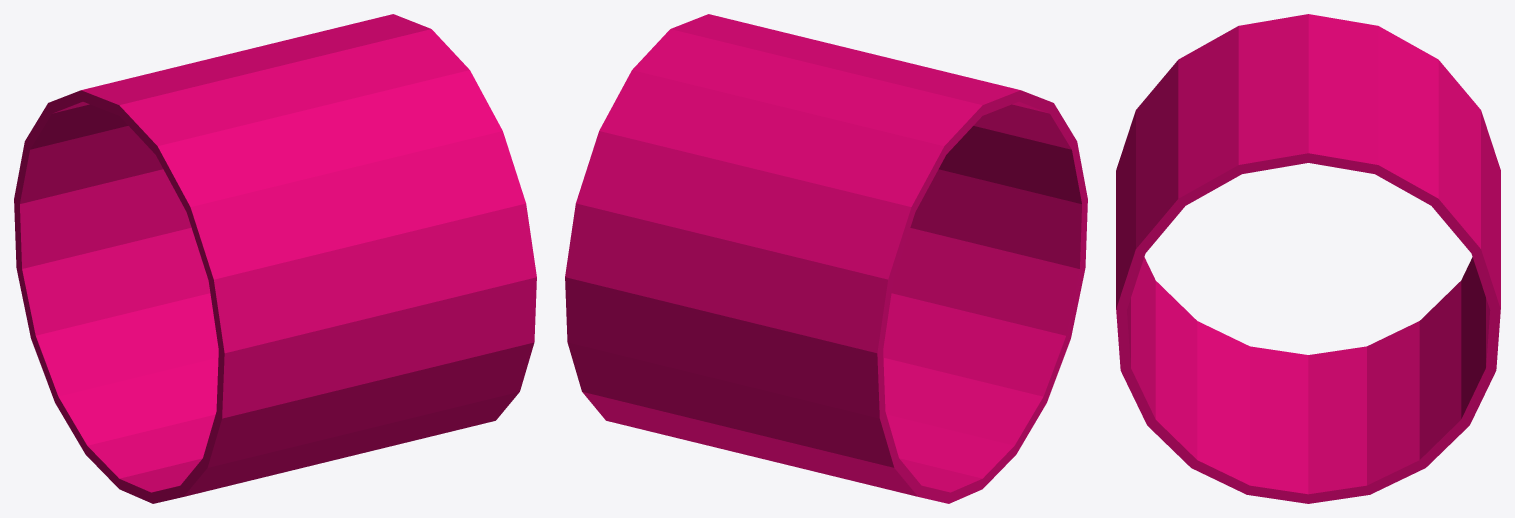
File: Floor_03_Roof_Bend_04.fbx
3 renders of one model, left to right at view 1: azimuth 30°, elevation 25°; view 2: azimuth 150°, elevation 25°; view 3: azimuth 270°, elevation 25°, orthographic. The views are drawn at different scales.
Visible parts, largest first — view 1: Floor_03_Roof_Bend_04; view 2: Floor_03_Roof_Bend_04; view 3: Floor_03_Roof_Bend_04.
Part boxes in pixels (x1,y1,x2,y2): Floor_03_Roof_Bend_04: [14, 14, 536, 503]; Floor_03_Roof_Bend_04: [565, 14, 1087, 503]; Floor_03_Roof_Bend_04: [1116, 14, 1500, 503].
Bounding box in the file's own units: 206 × 242 × 241.
